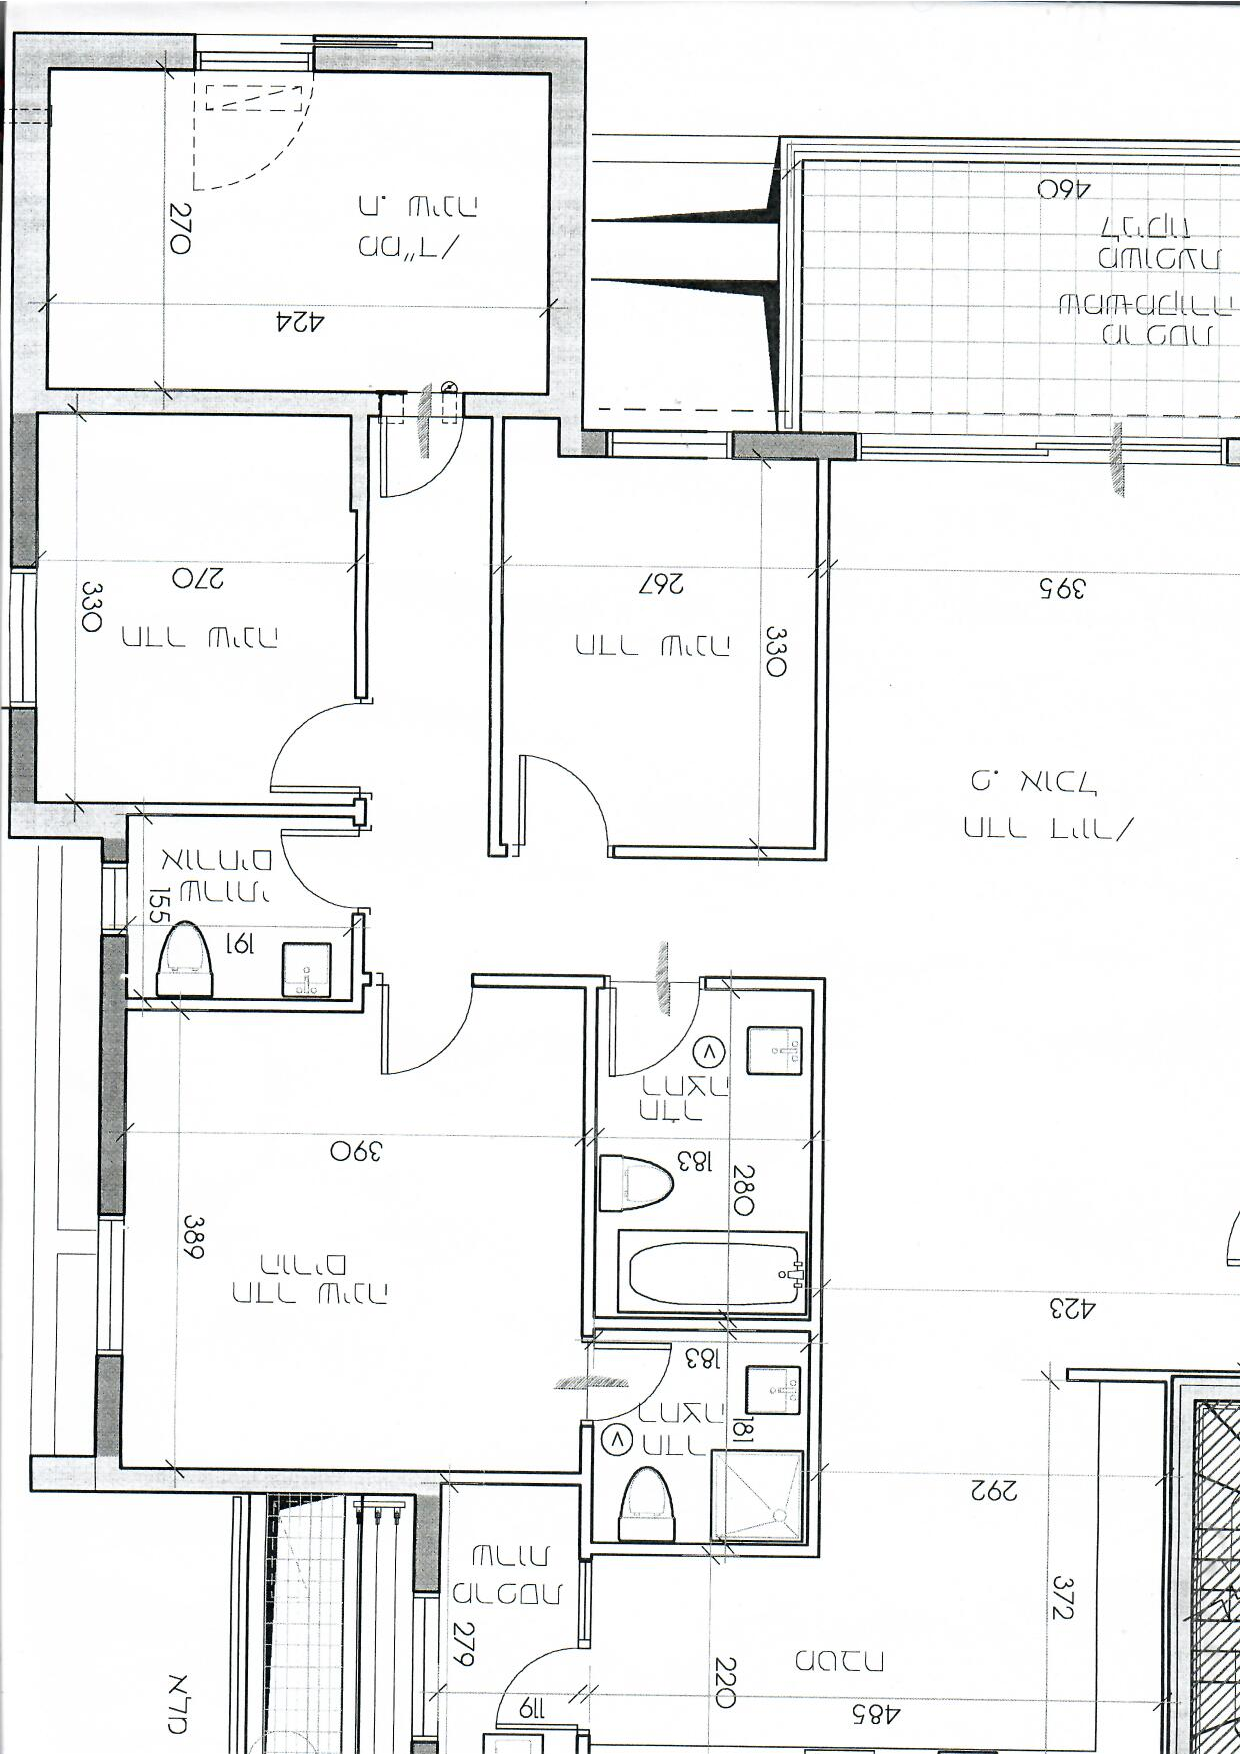door: (509, 725, 615, 839), (250, 684, 356, 798), (370, 986, 475, 1100)
window: (91, 1208, 133, 1362), (5, 562, 47, 717)
